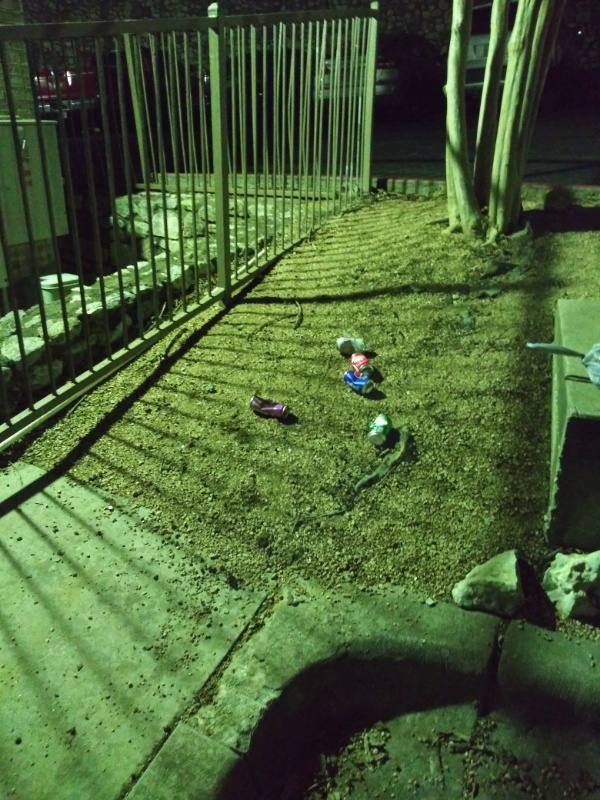can: (248, 391, 291, 424), (341, 366, 375, 395), (346, 351, 374, 377), (334, 336, 367, 355)
